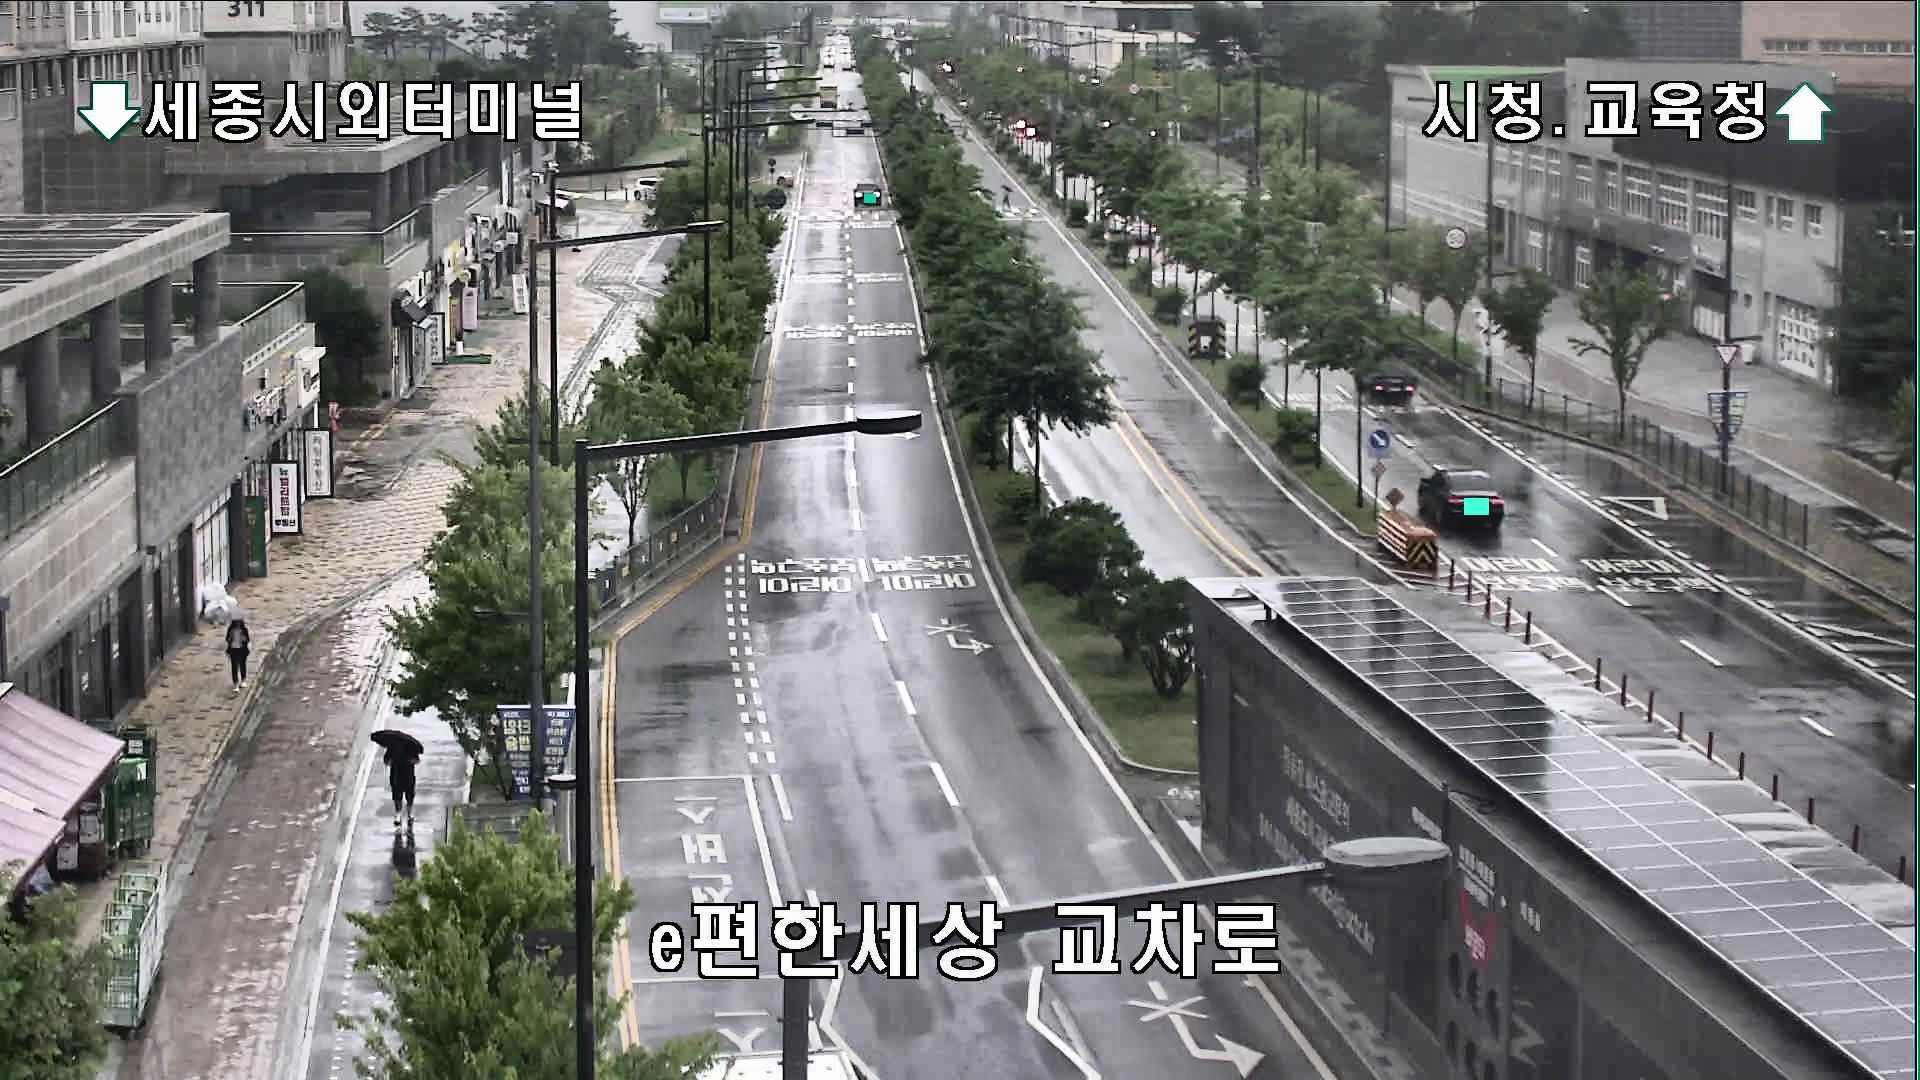um_crosswalk: (998, 181, 1015, 212)
um_sidewalk: (372, 727, 426, 829), (206, 609, 258, 691)
